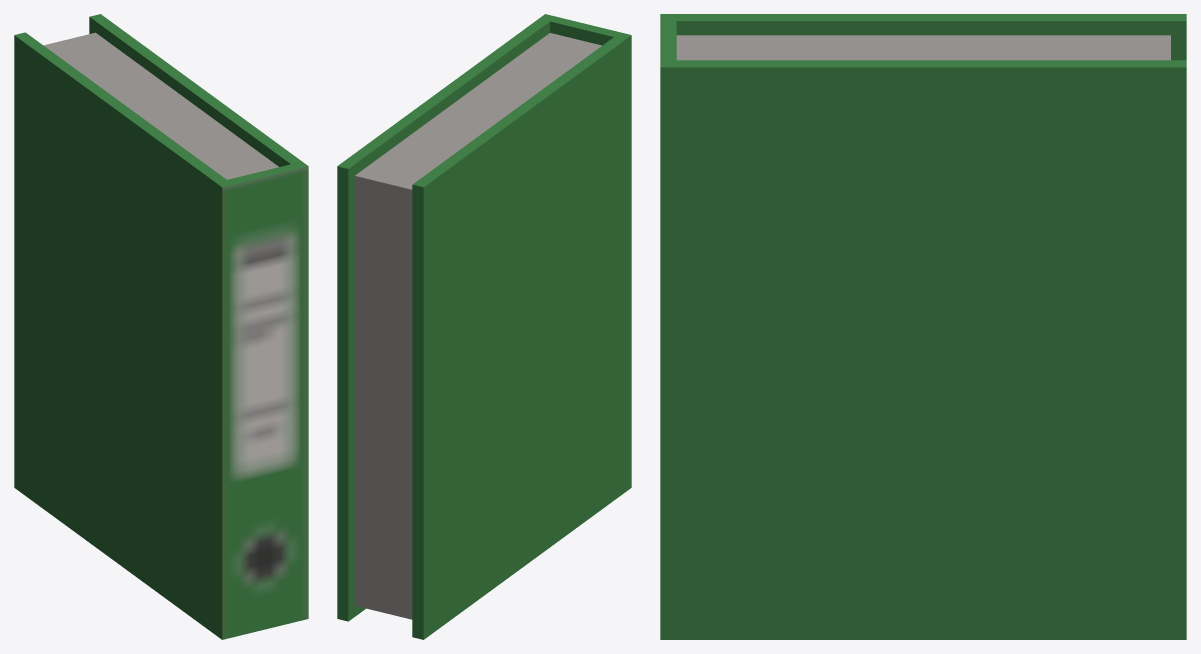
The model's file is SM_Props_Interior_Generic_Office_File_Large_04.fbx.
3 views of the same model, side by side, from view 1: azimuth 30°, elevation 25°; view 2: azimuth 150°, elevation 25°; view 3: azimuth 270°, elevation 25° (orthographic). The views are drawn at different scales.
Parts seen in each view (by area): view 1: SM_Props_Interior_Generic_Office_File_Large_04; view 2: SM_Props_Interior_Generic_Office_File_Large_04; view 3: SM_Props_Interior_Generic_Office_File_Large_04.
Part boxes in pixels (x1,y1,x2,y2): SM_Props_Interior_Generic_Office_File_Large_04: (14, 14, 308, 639); SM_Props_Interior_Generic_Office_File_Large_04: (337, 14, 631, 639); SM_Props_Interior_Generic_Office_File_Large_04: (660, 14, 1186, 639).
Size of the model in its own units: 12 by 60 by 50.
